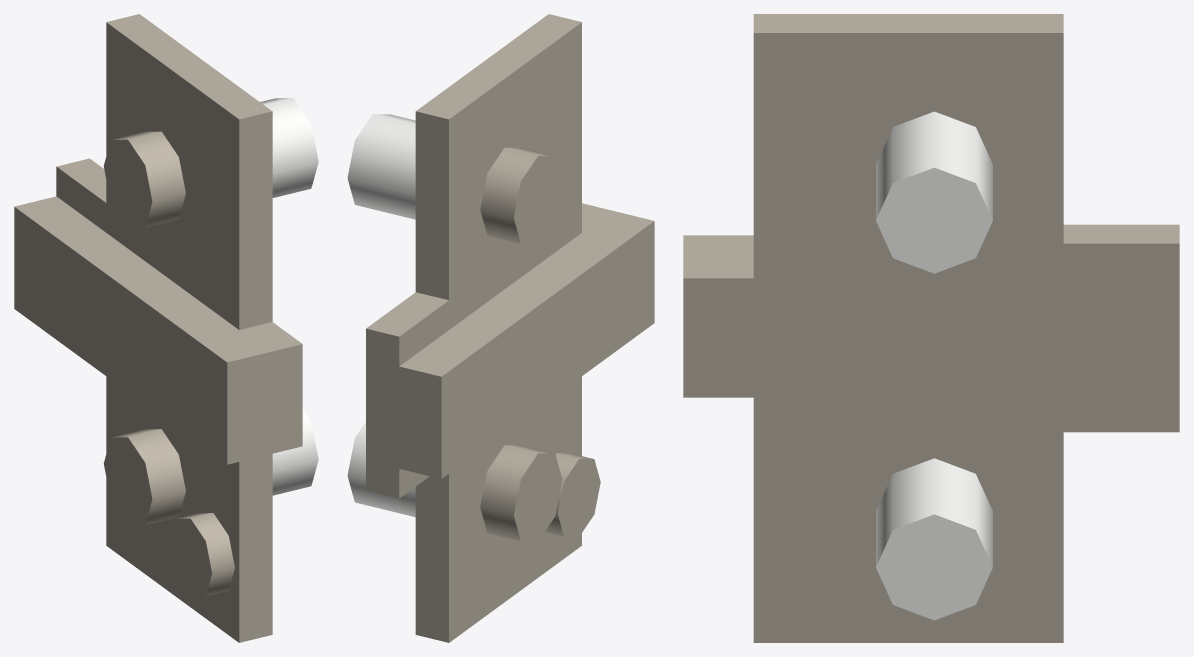
The picture shows the model from 3 angles, left to right: view 1: azimuth 30°, elevation 25°; view 2: azimuth 150°, elevation 25°; view 3: azimuth 270°, elevation 25°; orthographic projection. The views are drawn at different scales.
Parts seen in each view (by area): view 1: bau2488427520; view 2: bau2488427520; view 3: bau2488427520.
Boxes of the visible parts, <box> form: bau2488427520: <box>14,14,318,642</box>; bau2488427520: <box>347,14,654,642</box>; bau2488427520: <box>683,14,1179,642</box>.
Size of the model in its own units: 19.6 by 56.3 by 41.51.
